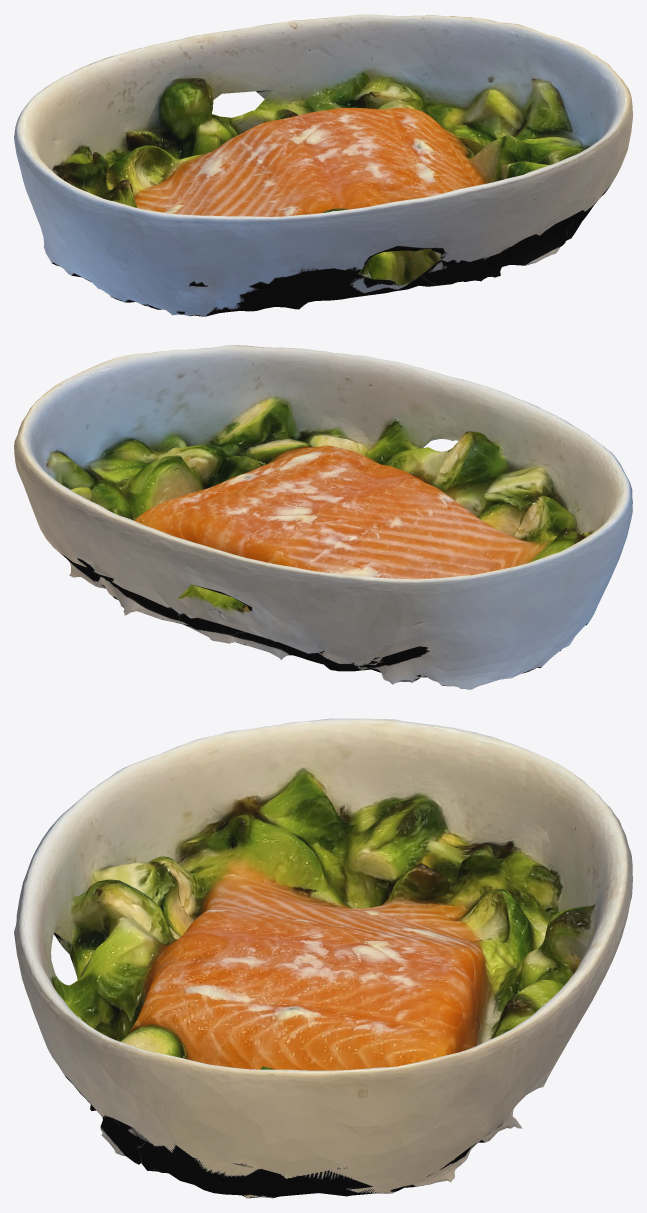
The model's file is salmon-brussels.glb.
The picture shows the model from 3 angles, top to bottom: view 1: azimuth 30°, elevation 25°; view 2: azimuth 150°, elevation 25°; view 3: azimuth 270°, elevation 25°; orthographic projection. The views are drawn at different scales.
Visible parts, largest first — view 1: Model; view 2: Model; view 3: Model.
Boxes of the visible parts, x1=… form: Model: x1=14, y1=14, x2=632, y2=316; Model: x1=14, y1=345, x2=632, y2=689; Model: x1=14, y1=718, x2=632, y2=1198.
Bounding box in the file's own units: 0.9882 × 0.2156 × 0.7333.
Materials: 3 (3 with a texture image).
